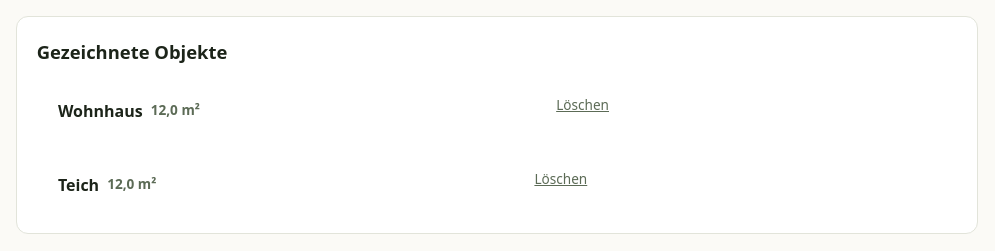
ElementList — removing something › asks before it removes
Click the button with aria-label "Wohnhaus löschen" at (583, 105), box [226, 78, 939, 132]
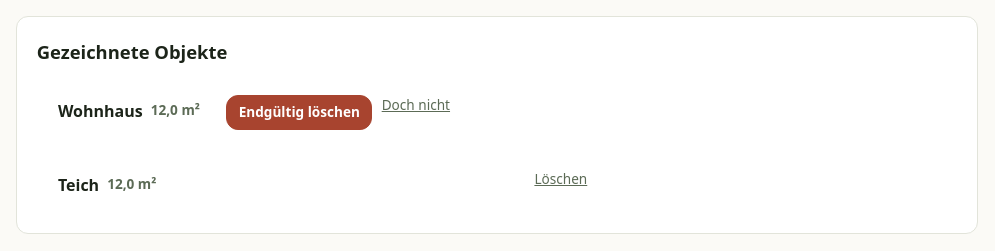
Expected: the button "Endgültig löschen" is shown, [226, 95, 372, 130]
